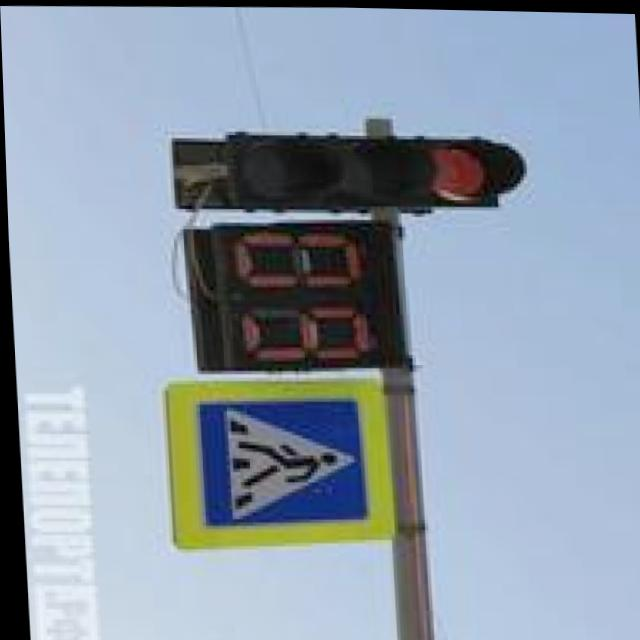red_light: (425, 111, 528, 237)
